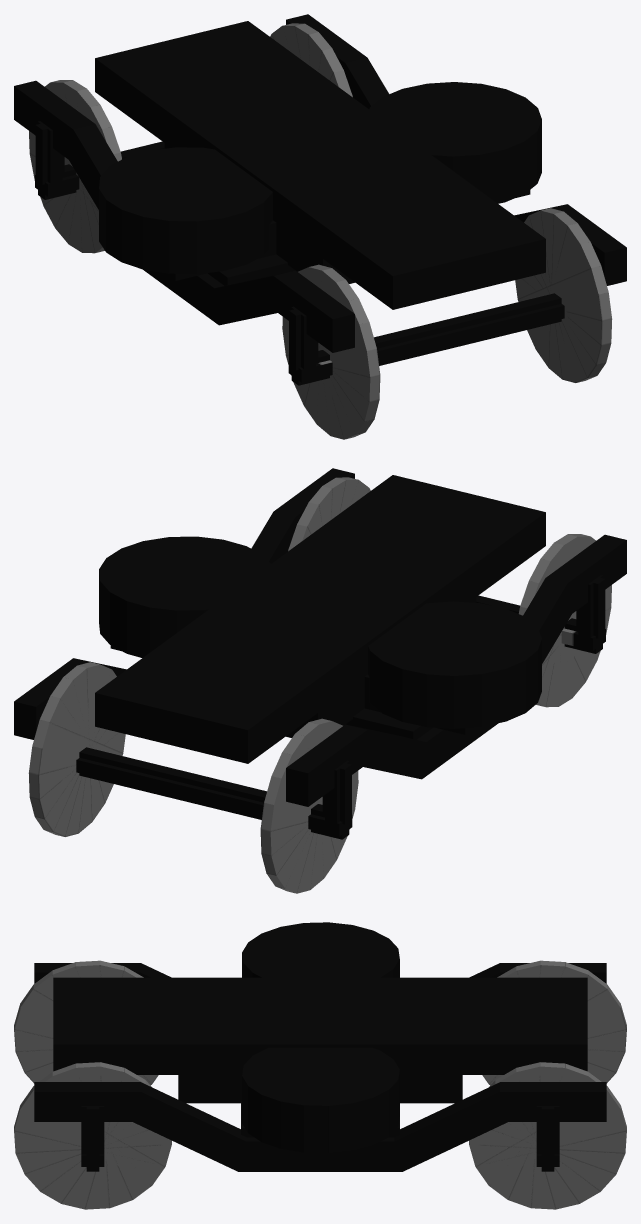
The model's file is etr470_bogie_obj.obj.
3 views of the same model, one above another, from view 1: azimuth 30°, elevation 25°; view 2: azimuth 150°, elevation 25°; view 3: azimuth 270°, elevation 25° (orthographic). The views are drawn at different scales.
Parts seen in each view (by area): view 1: bogie_NORMAL; view 2: bogie_NORMAL; view 3: bogie_NORMAL.
Boxes of the visible parts, x1,y1,x2,y2 form: bogie_NORMAL: (14, 14, 626, 439); bogie_NORMAL: (14, 468, 626, 893); bogie_NORMAL: (14, 922, 626, 1209).
Size of the model in its own units: 2.6 by 0.9618 by 3.67.
1 material, 1 textured.
